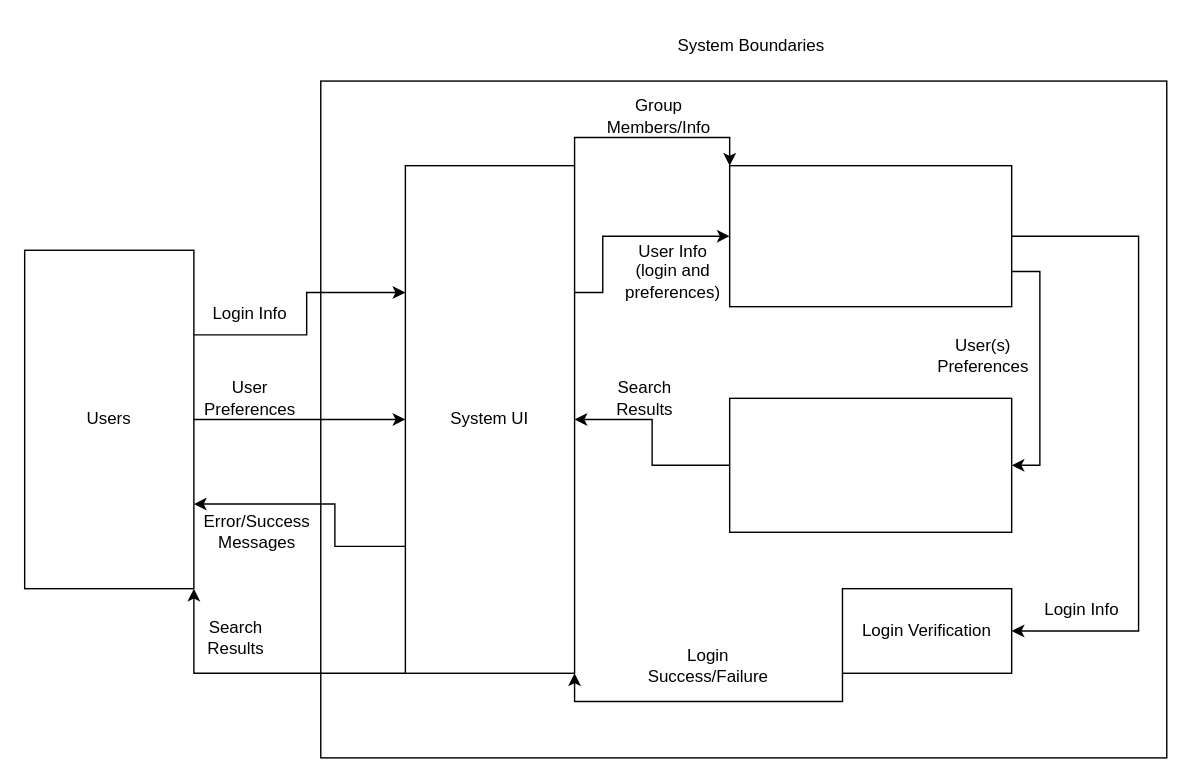
The diagram is 1191 pixels wide and 783 high, and some of its shapes have lost their labels. The shapes that lost their labels are listed below. From the top down, each one's centre as x and y in pixels, then its label:
pixel 870 235: Database
pixel 870 464: Search Algorithm
